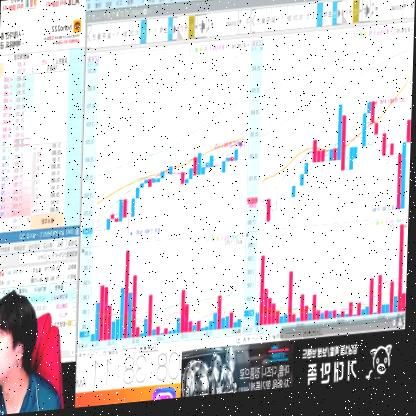streamer: (0, 284, 71, 416)
